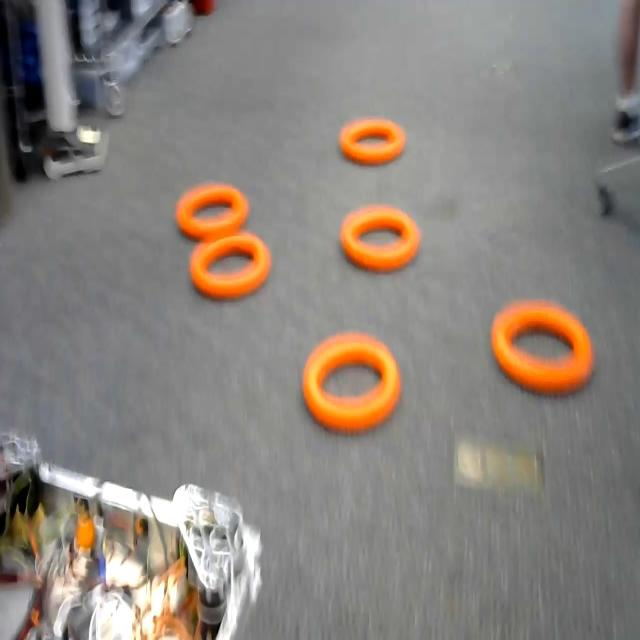note: (296, 323, 417, 442), (484, 292, 600, 413), (337, 198, 428, 276), (173, 177, 258, 237), (191, 242, 276, 300), (336, 114, 408, 168)
